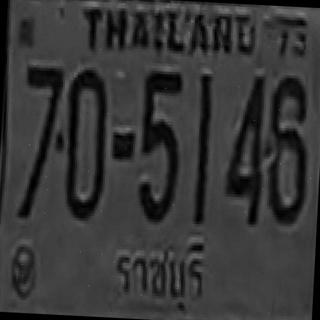N00: (62, 68, 109, 218)
N01: (194, 74, 212, 198)
N04: (222, 74, 266, 224)
N05: (136, 68, 183, 220), (140, 68, 183, 157)
N07: (20, 64, 64, 161), (21, 64, 64, 148)
P52: (106, 230, 208, 315)
